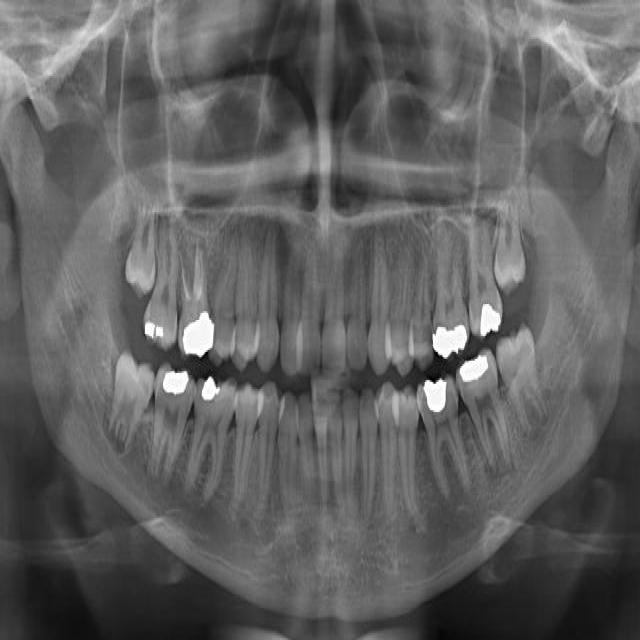dolgu: (412, 366, 452, 426), (451, 342, 497, 394), (155, 352, 191, 415), (432, 307, 476, 357), (471, 282, 506, 339), (194, 367, 227, 423), (138, 305, 170, 351)
kanal-tedavisi: (178, 234, 208, 309)
kaplama: (180, 306, 217, 366)
